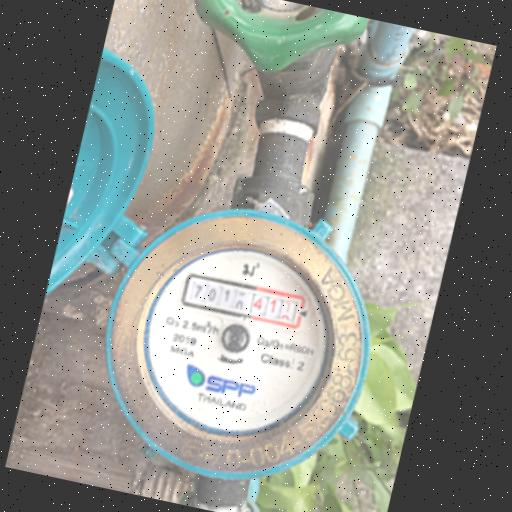0: (233, 291, 249, 312), (205, 285, 220, 305)
1: (219, 287, 236, 308), (264, 298, 281, 319), (279, 301, 296, 322)
4: (249, 295, 267, 316)
7: (190, 282, 206, 303)
border_water_meter_number: (179, 271, 307, 330)
